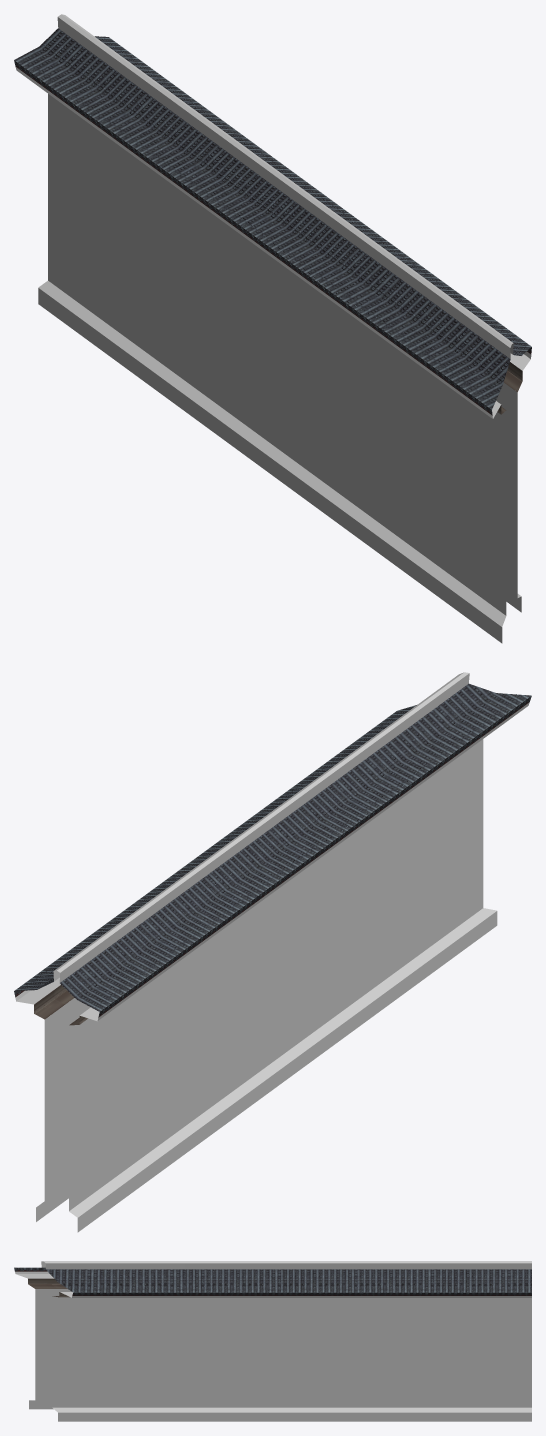
The model's file is JiaYeSi_WeiQiang_8.FBX.
3 views of the same model, one above another, from view 1: azimuth 30°, elevation 25°; view 2: azimuth 150°, elevation 25°; view 3: azimuth 270°, elevation 25° (orthographic). The views are drawn at different scales.
Visible parts, largest first — view 1: Object03, Object02; view 2: Object03, Object02; view 3: Object03, Object02.
Part boxes in pixels (<box>): Object03: <box>15,14,531,643</box>; Object02: <box>14,28,531,415</box>; Object03: <box>15,672,529,1232</box>; Object02: <box>14,683,531,1025</box>; Object03: <box>15,1261,531,1421</box>; Object02: <box>14,1267,531,1297</box>.
Bounding box in the file's own units: 249 × 713 × 2175.
